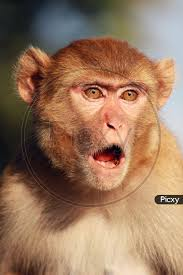monkey: (8, 23, 168, 242)
